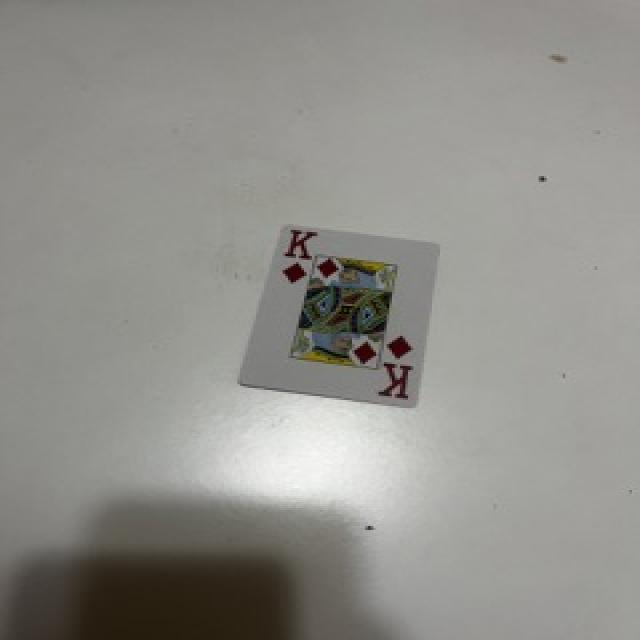King of diamonds: (242, 226, 438, 406)
